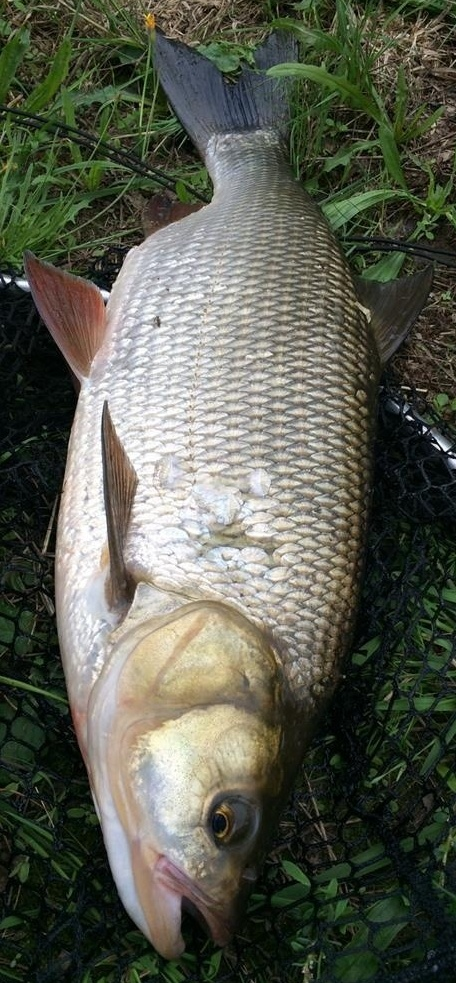Aspius aspius: (20, 20, 436, 963)
